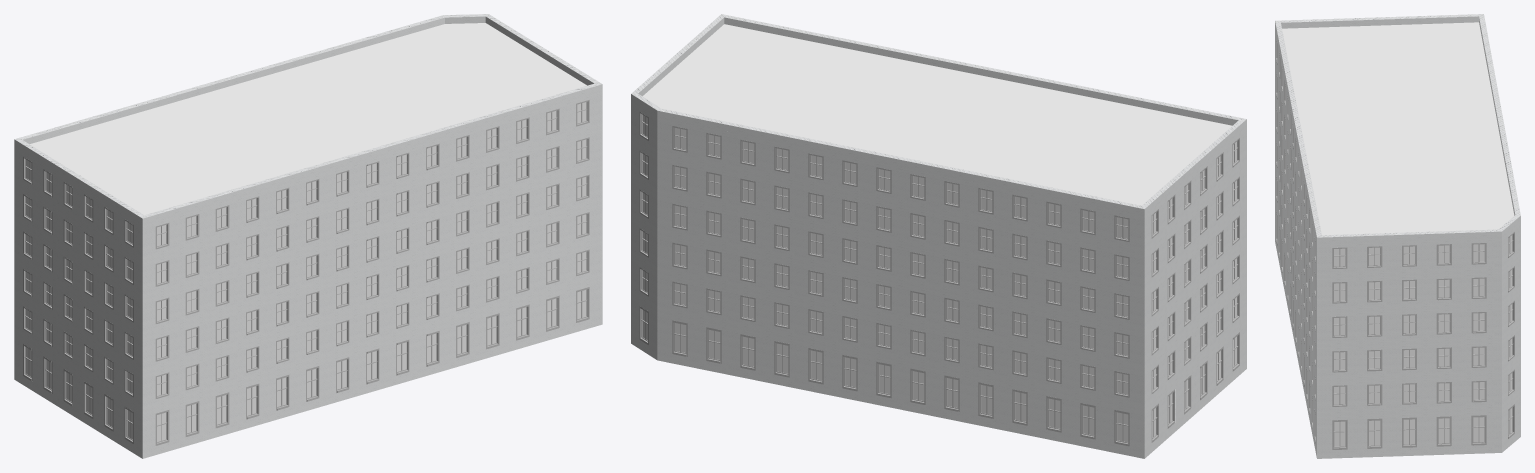
Rendered from clohc7iuj03px4p02hpk2hbr5_0.glb.
3 renders of one model, left to right at view 1: azimuth 30°, elevation 25°; view 2: azimuth 150°, elevation 25°; view 3: azimuth 270°, elevation 25°, orthographic. The views are drawn at different scales.
Visible parts, largest first — view 1: mesh_Brick, mesh_CityEnginePBRShader, mesh_Rim, mesh_Glass; view 2: mesh_Brick, mesh_CityEnginePBRShader, mesh_Rim, mesh_Glass; view 3: mesh_Brick, mesh_CityEnginePBRShader, mesh_Rim, mesh_Glass.
Boxes of the visible parts, bbox=[...] form: mesh_Brick: bbox=[14, 14, 602, 458]; mesh_CityEnginePBRShader: bbox=[30, 23, 586, 214]; mesh_Rim: bbox=[23, 100, 589, 445]; mesh_Glass: bbox=[26, 102, 586, 441]; mesh_Brick: bbox=[631, 14, 1246, 458]; mesh_CityEnginePBRShader: bbox=[642, 24, 1232, 205]; mesh_Rim: bbox=[639, 112, 1239, 446]; mesh_Glass: bbox=[642, 115, 1236, 442]; mesh_Brick: bbox=[1275, 14, 1520, 458]; mesh_CityEnginePBRShader: bbox=[1282, 22, 1514, 235]; mesh_Rim: bbox=[1276, 39, 1514, 449]; mesh_Glass: bbox=[1334, 235, 1512, 446].
Size of the model in its own units: 48.87 by 22.55 by 22.7.
Materials: 4 (1 with a texture image).
